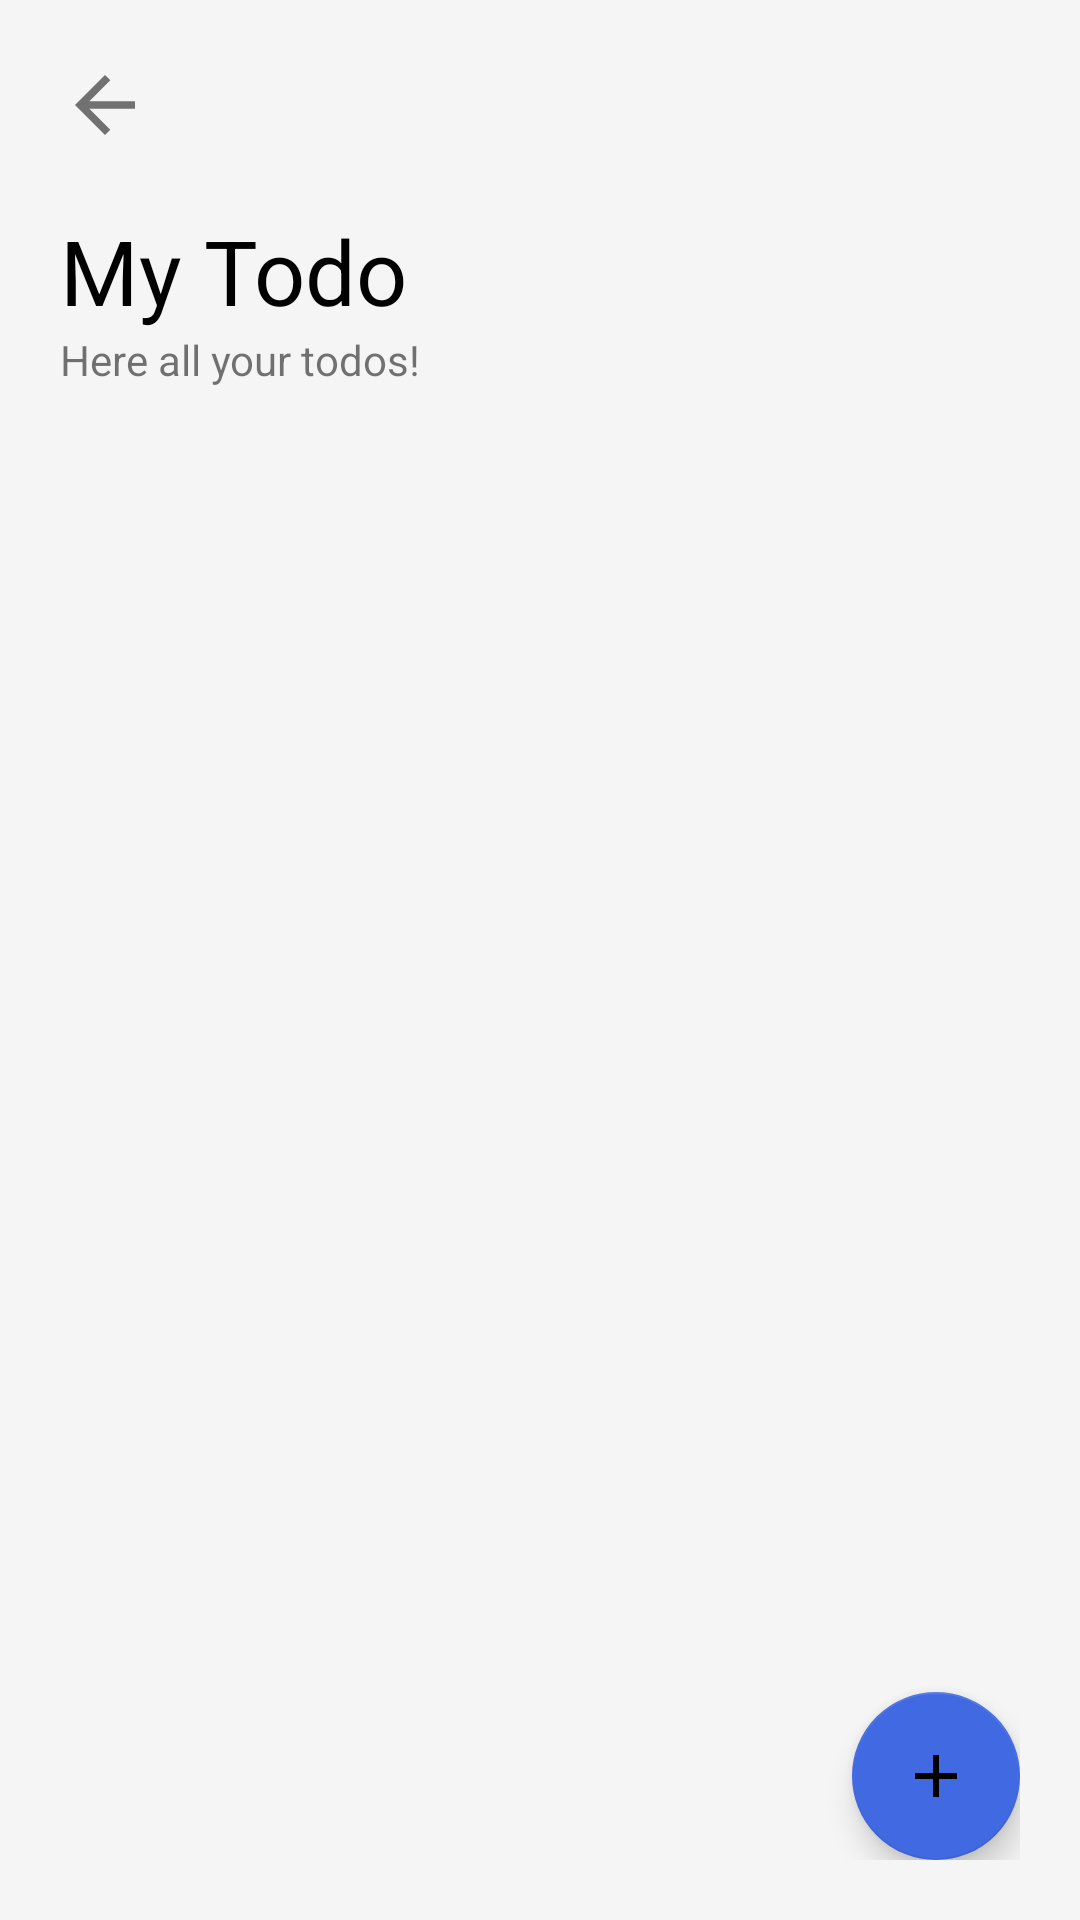

Screen size 1080 x 1920. Icon name, then its center in pixels as (x,y):
add: (936,1776)
arrow back: (105,105)
